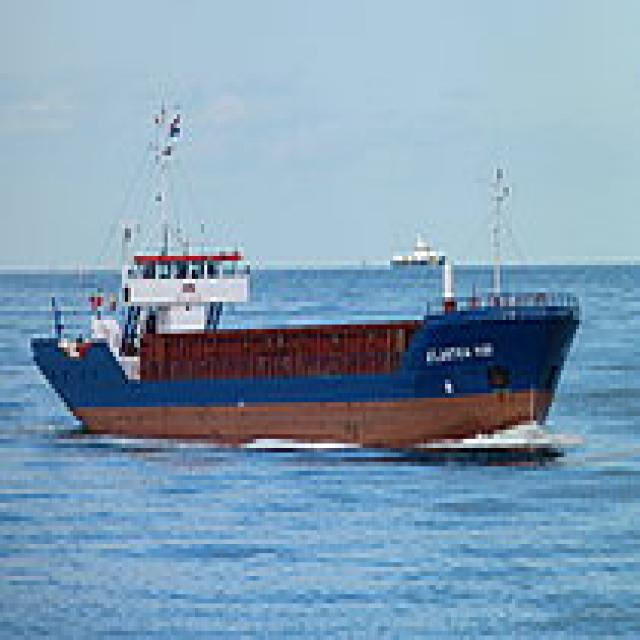Ship: (23, 180, 596, 468)
